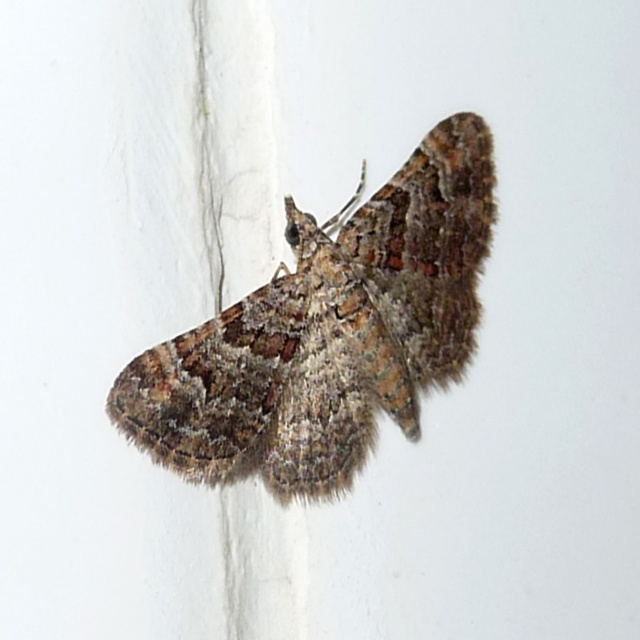Moths and butterflies: (102, 112, 502, 511)
